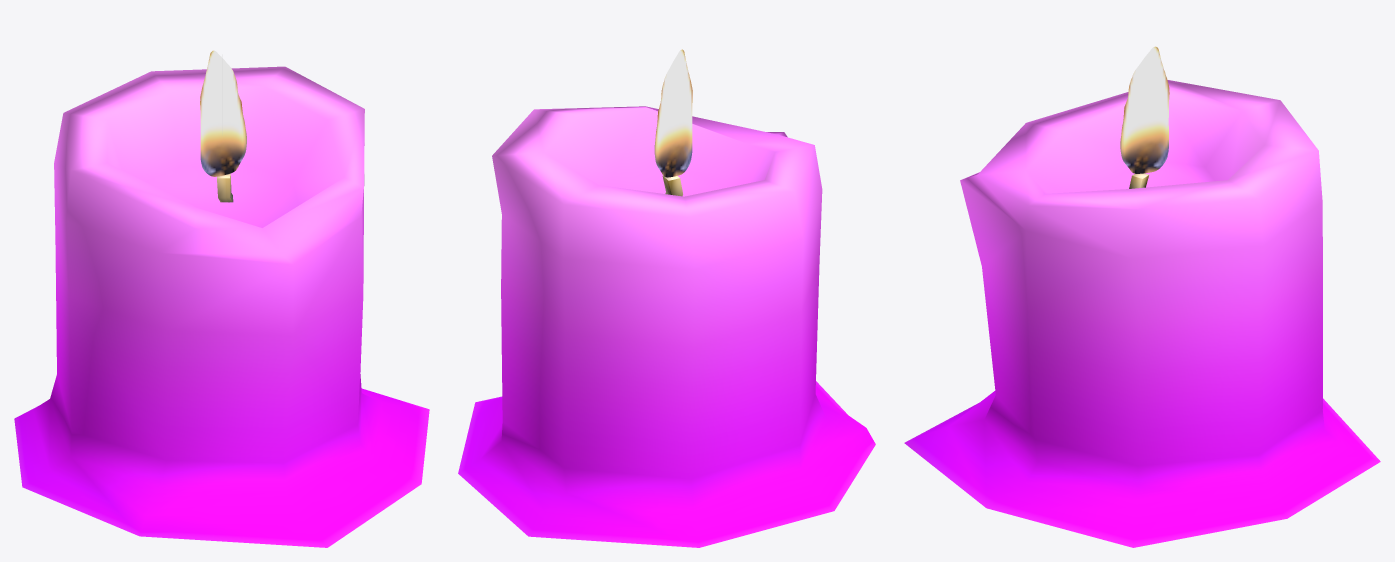
Rendered from CandleShapeC.026.glb.
The picture shows the model from 3 angles, left to right: view 1: azimuth 30°, elevation 25°; view 2: azimuth 150°, elevation 25°; view 3: azimuth 270°, elevation 25°; orthographic projection.
Visible parts, largest first — view 1: CandleShapeC.026; view 2: CandleShapeC.026; view 3: CandleShapeC.026.
Boxes of the visible parts, x1=… form: CandleShapeC.026: x1=14, y1=50, x2=429, y2=547; CandleShapeC.026: x1=458, y1=49, x2=875, y2=547; CandleShapeC.026: x1=904, y1=46, x2=1380, y2=547.
Size of the model in its own units: 0.1734 by 0.1799 by 0.1889.
Materials: 2 (2 with a texture image).
